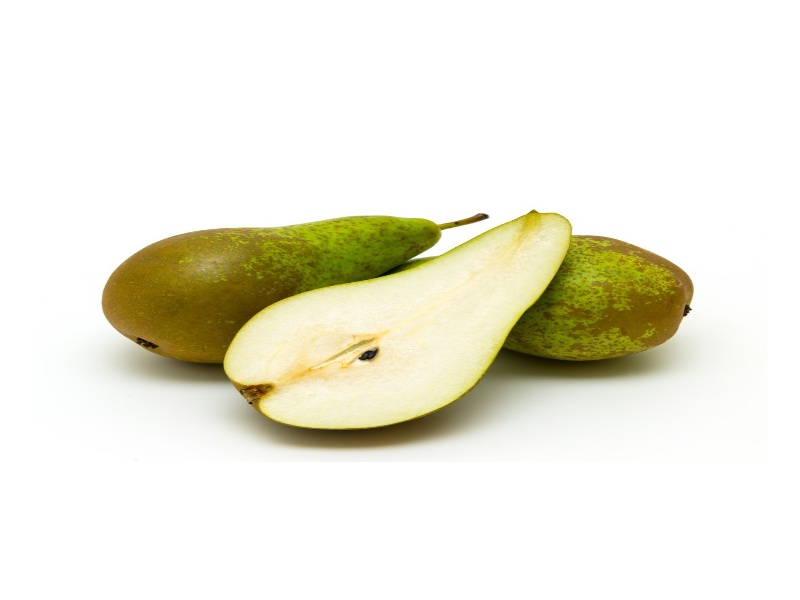Pera: (223, 211, 583, 431), (101, 214, 487, 362), (499, 237, 694, 360)
